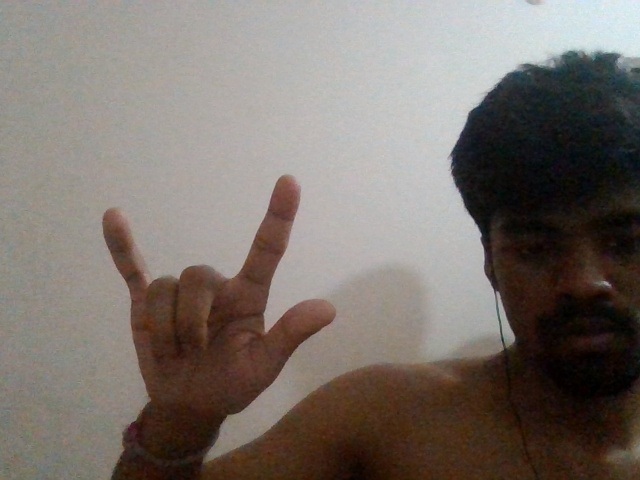ILoveYou: (97, 166, 343, 444)
